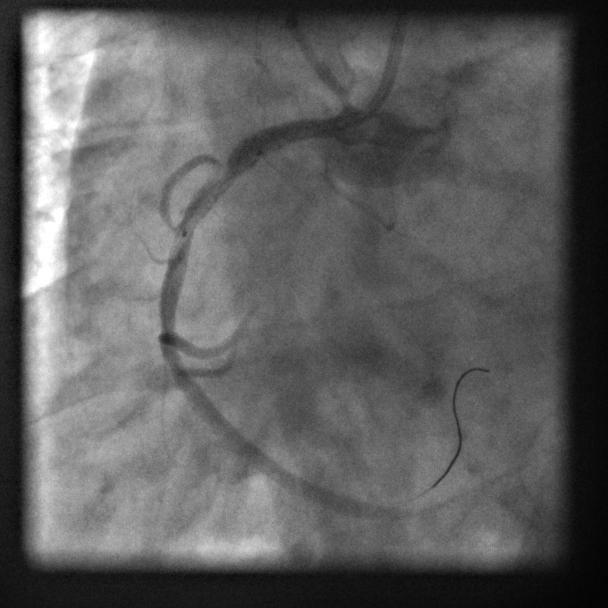Stenosis: (204, 148, 239, 201)
